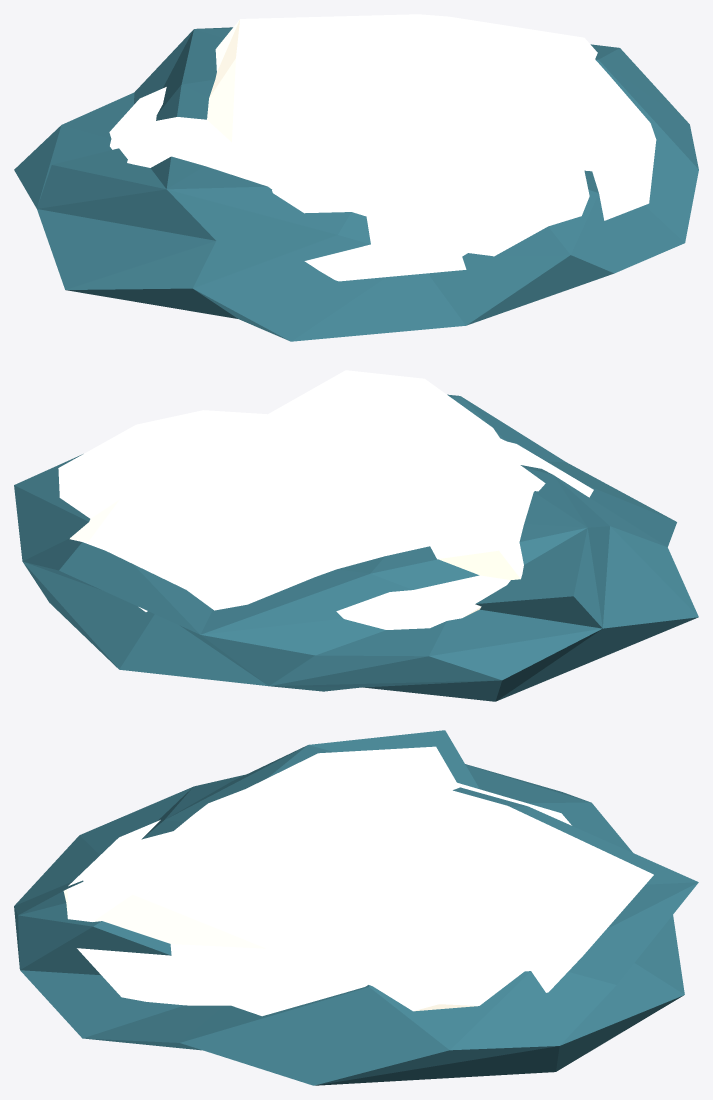
The model's file is RockAsset1.fbx.
The picture shows the model from 3 angles, top to bottom: view 1: azimuth 30°, elevation 25°; view 2: azimuth 150°, elevation 25°; view 3: azimuth 270°, elevation 25°; orthographic projection. The views are drawn at different scales.
Visible parts, largest first — view 1: Rock1; view 2: Rock1; view 3: Rock1.
Boxes of the visible parts, x1=… form: Rock1: x1=14, y1=14, x2=698, y2=341; Rock1: x1=14, y1=370, x2=698, y2=701; Rock1: x1=14, y1=730, x2=698, y2=1085.
Bounding box in the file's own units: 691 × 180 × 611.
